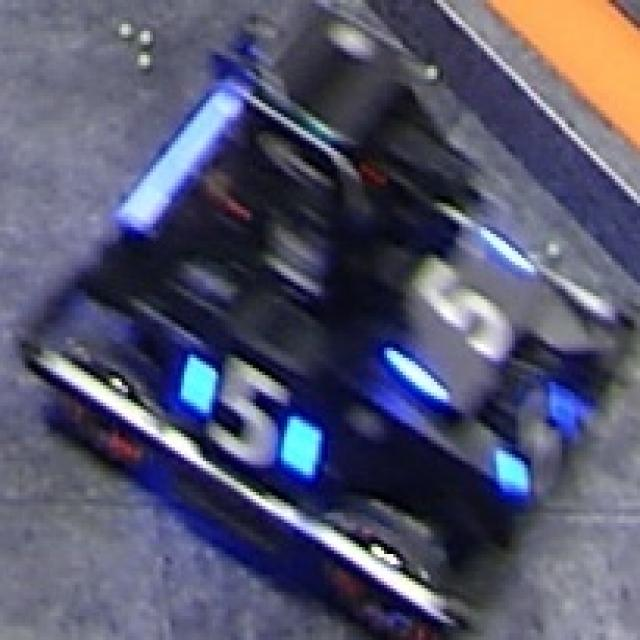B5: (175, 344, 321, 475)
